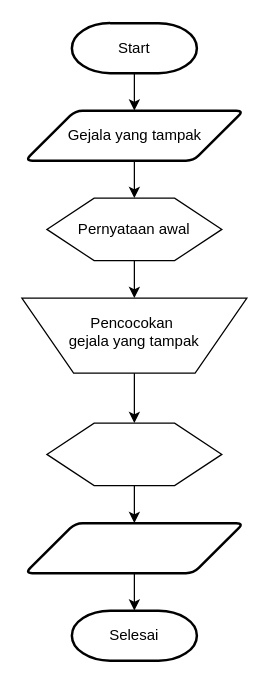
Image size: 269x683. Some labels were removed from this diagram. Each missing label, with the centre of its shape:
"Hasil diagnosa" belongs at (133,547).
"Pernyataan akhir" belongs at (134,454).
